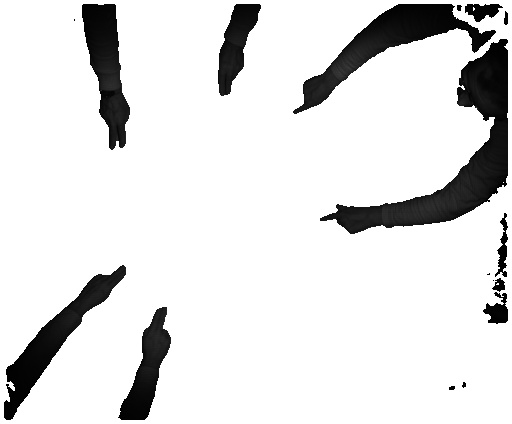hand: (73, 264, 127, 312), (288, 74, 337, 119), (140, 304, 175, 363), (99, 94, 135, 151), (320, 204, 374, 239), (216, 48, 247, 95)
